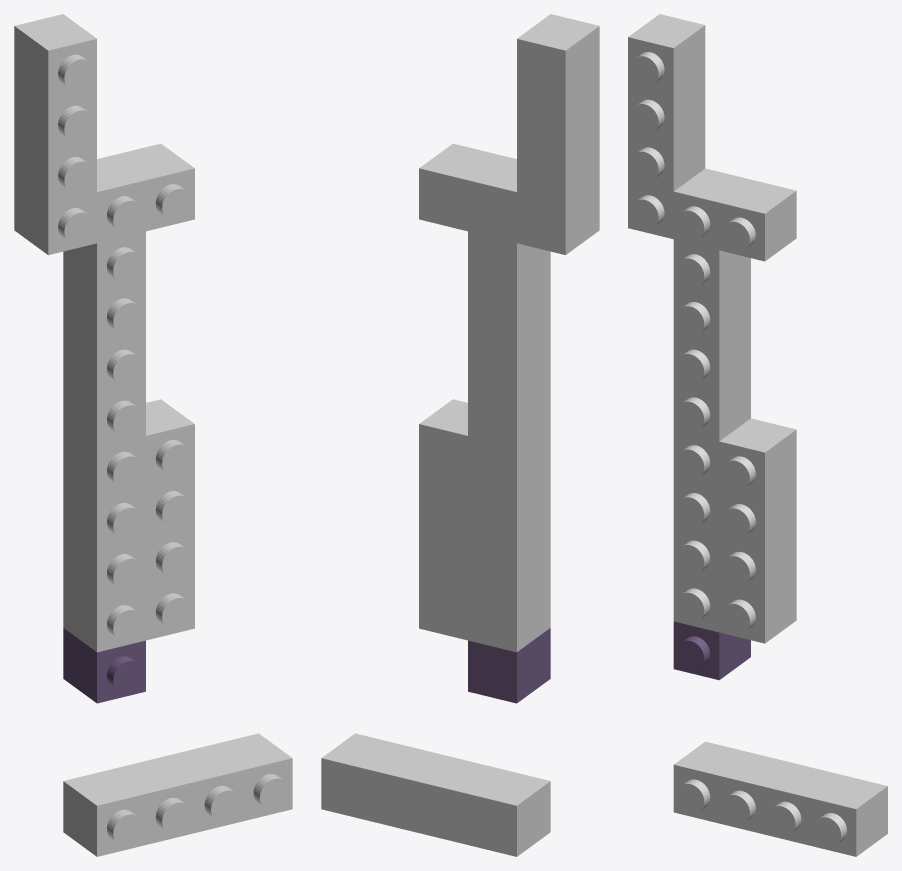
File: current.glb
The picture shows the model from 3 angles, left to right: view 1: azimuth 30°, elevation 25°; view 2: azimuth 150°, elevation 25°; view 3: azimuth 330°, elevation 25°; orthographic projection. The views are drawn at different scales.
Parts seen in each view (by area): view 1: world; view 2: world; view 3: world.
Boxes of the visible parts, x1,y1,x2,y2 form: world: [14, 14, 292, 856]; world: [321, 14, 599, 856]; world: [628, 14, 887, 856].
Size of the model in its own units: 40 by 128 by 11.4.
